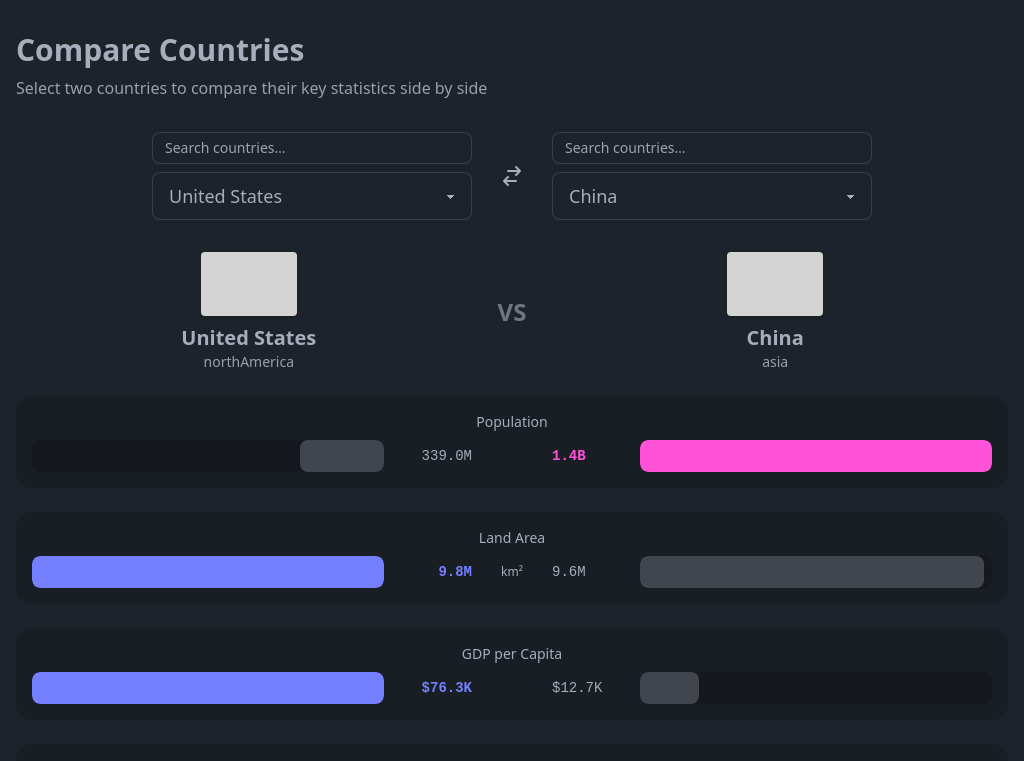
Test: Compare › search › typeahead auto-selects the first match when current selection no longer matches
Note: Default selection is US. Type "germ" — US doesn't match, Germany does.
Step 1. Type "germ" into the 1st search field with placeholder "Search countries…" → (312, 148), box top-left (152, 132), bottom-right (472, 164)
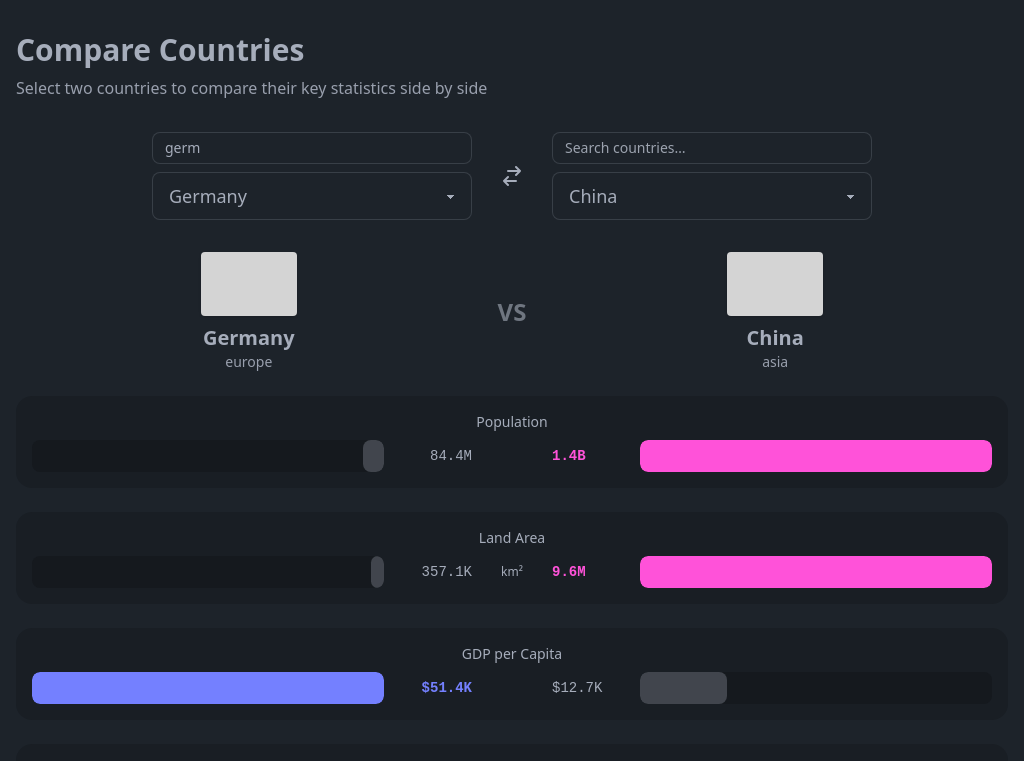
Now the dropdown with id "country1-select" shows "Germany", box top-left (152, 172), bottom-right (472, 220)
Now the text "Germany" is shown, box top-left (203, 324), bottom-right (295, 351)
